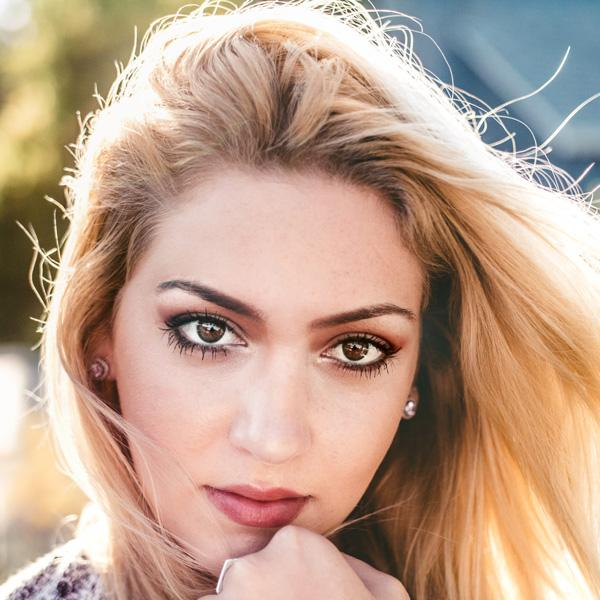Eyes: (158, 295, 255, 369), (312, 323, 399, 380)
